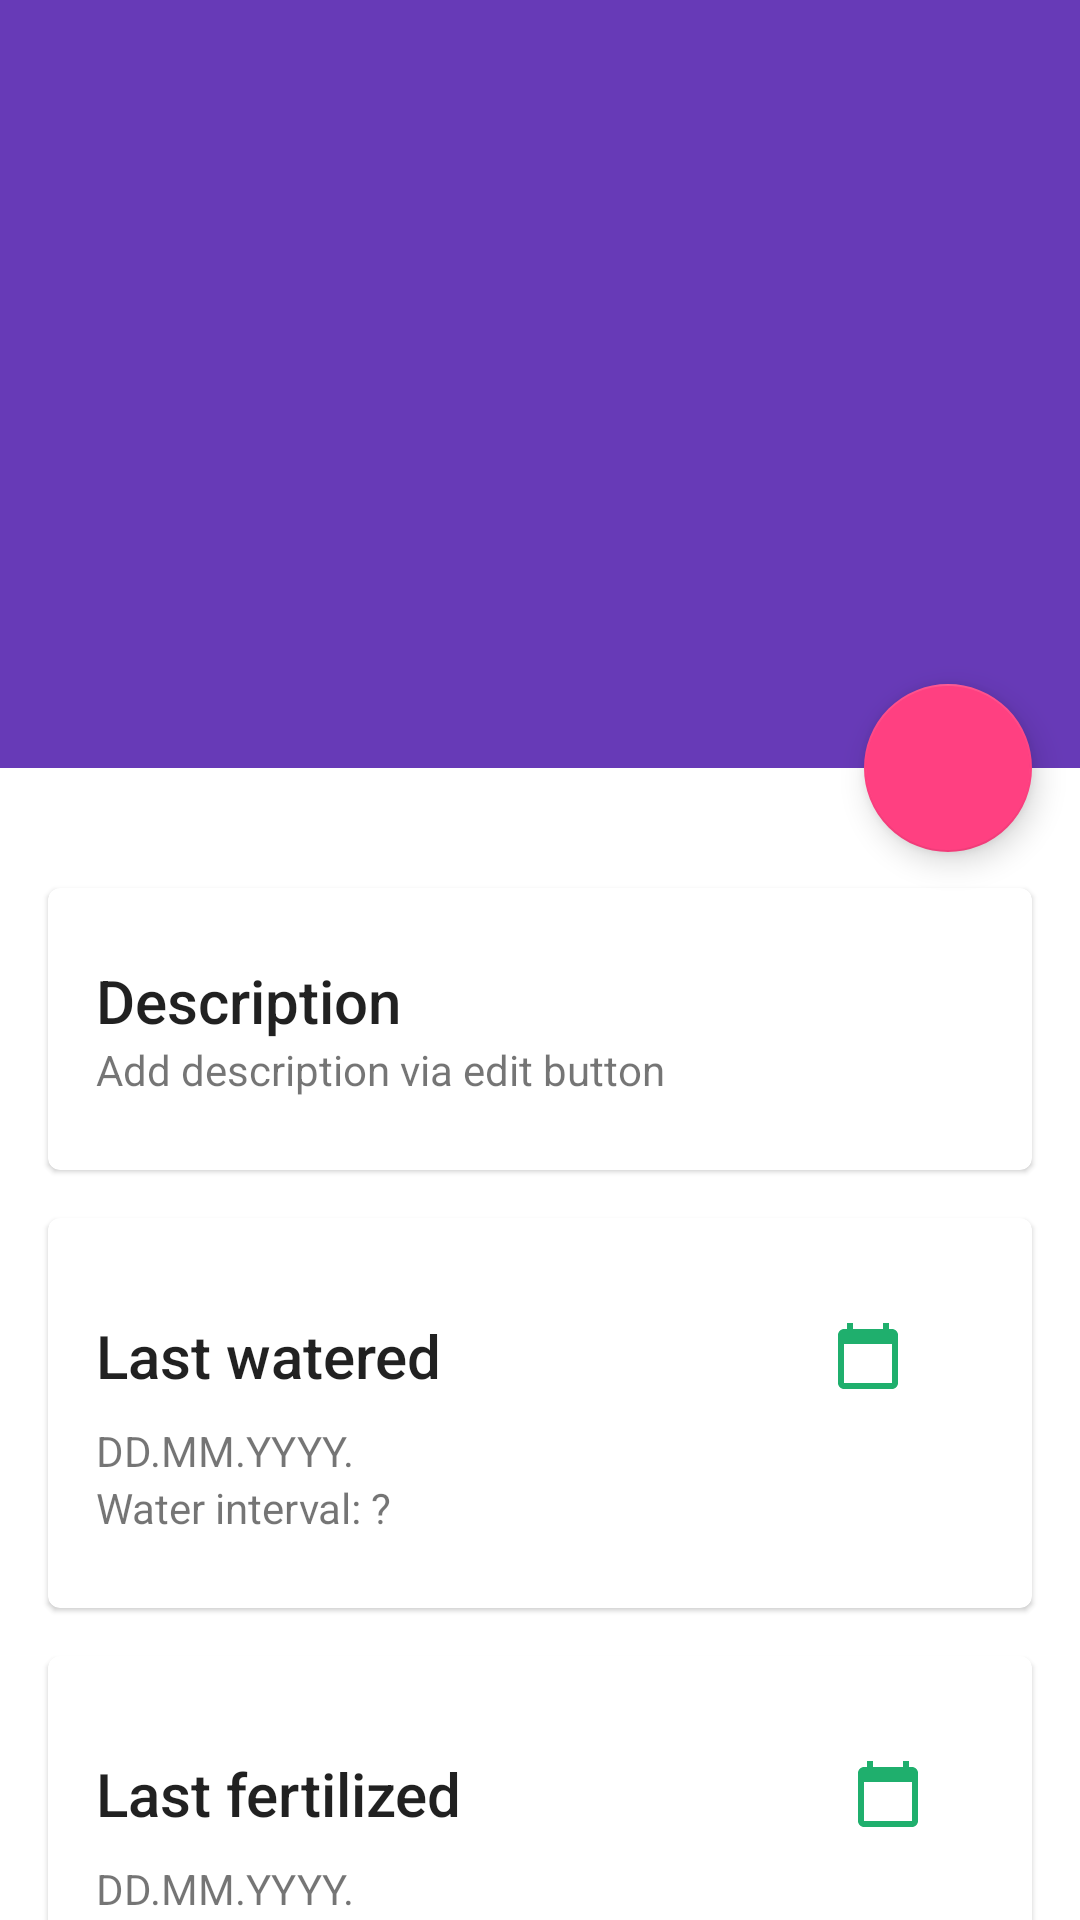

Where to tap for icons on this 1080w x 1920h app screen, as (x=x, y=y):
calendar: (x=868, y=1356), (x=888, y=1794)
